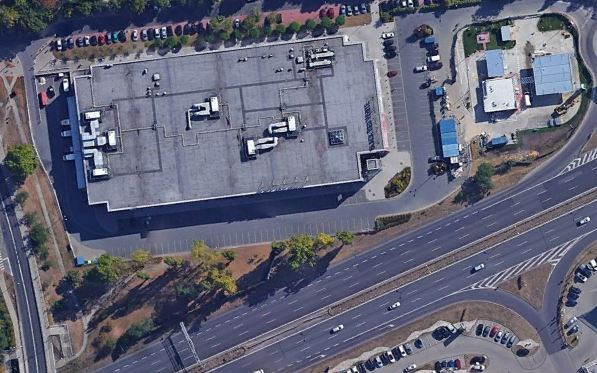garage: (438, 116, 461, 168)
shopping_center: (65, 36, 389, 214)
